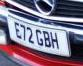2: (26, 26, 34, 45)
7: (20, 24, 26, 41)
B: (42, 30, 51, 48)
E: (14, 21, 22, 39)
G: (35, 29, 44, 46)
H: (50, 31, 59, 50)
